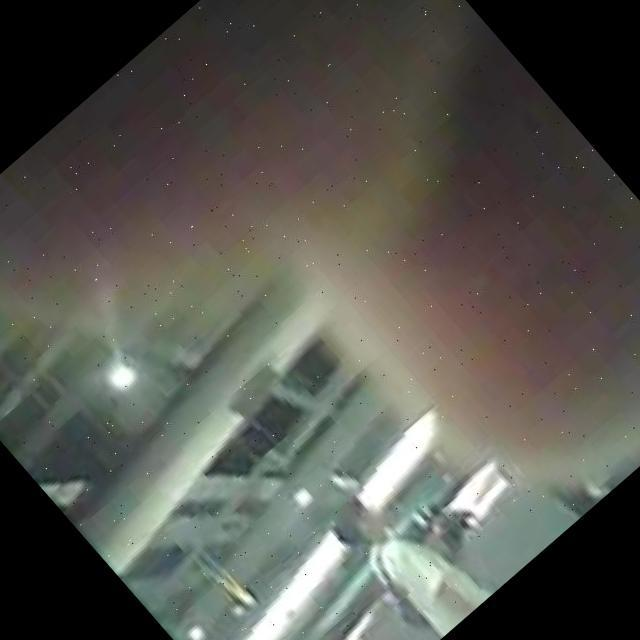person: (316, 468, 488, 640)
